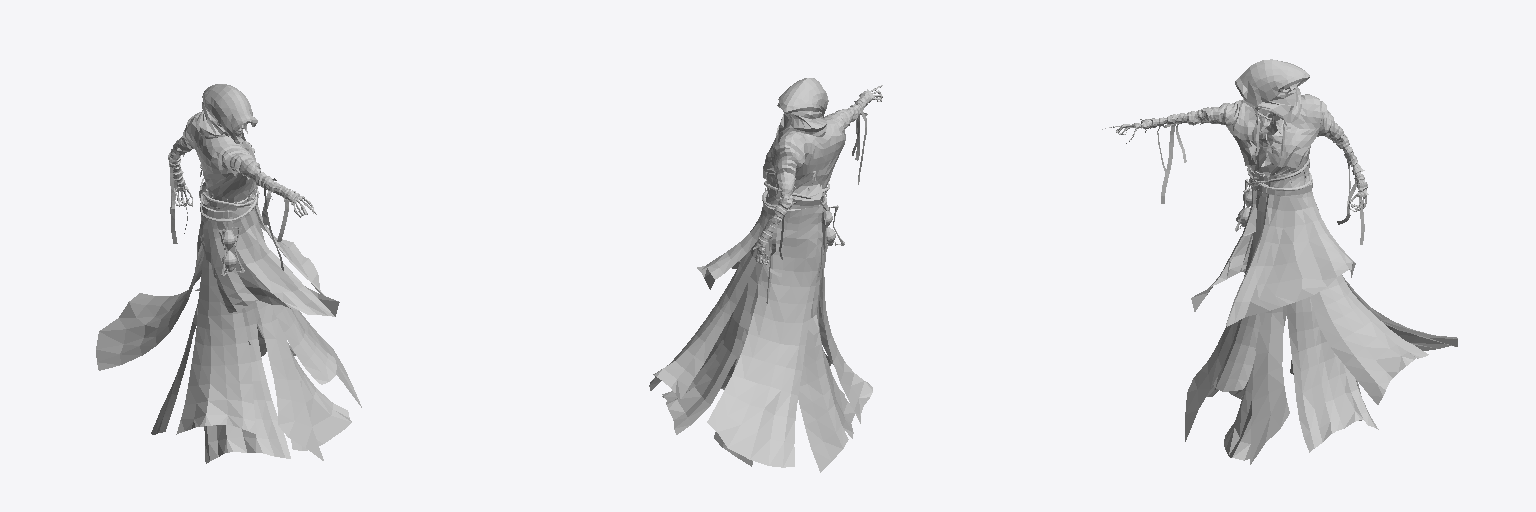
The model's file is reaper_1.obj.
3 renders of one model, left to right at view 1: azimuth 30°, elevation 25°; view 2: azimuth 150°, elevation 25°; view 3: azimuth 270°, elevation 25°, orthographic.
Parts seen in each view (by area): view 1: judge_reaper_body.2_Mesh_1; view 2: judge_reaper_body.2_Mesh_1; view 3: judge_reaper_body.2_Mesh_1.
Part boxes in pixels (left/top/right/bottom): judge_reaper_body.2_Mesh_1: left=96, top=84, right=361, bottom=463; judge_reaper_body.2_Mesh_1: left=649, top=78, right=882, bottom=472; judge_reaper_body.2_Mesh_1: left=1102, top=59, right=1457, bottom=464.
Size of the model in its own units: 2.06 by 3.86 by 3.45.